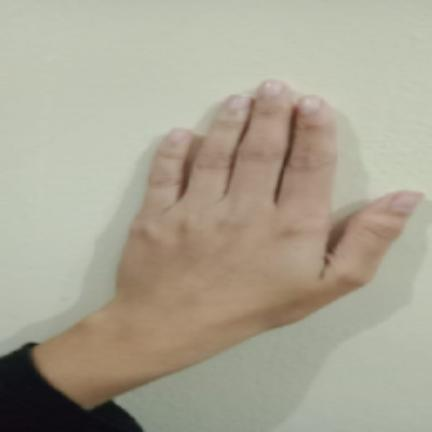Nail: (391, 191, 423, 214), (299, 95, 323, 114), (262, 80, 284, 96), (226, 94, 250, 108), (167, 129, 186, 143)
